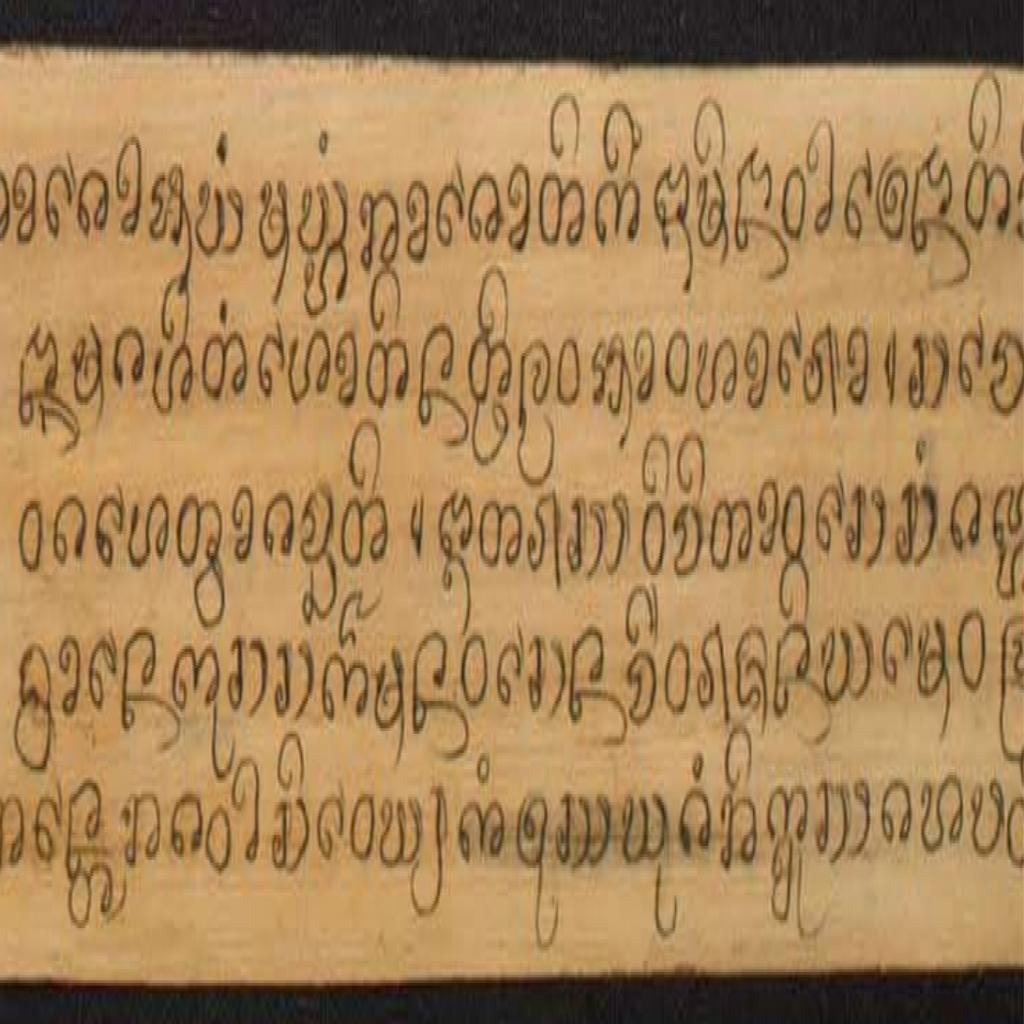LN039: (918, 767, 967, 863)
